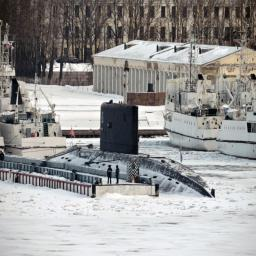submarine: (47, 102, 218, 200)
